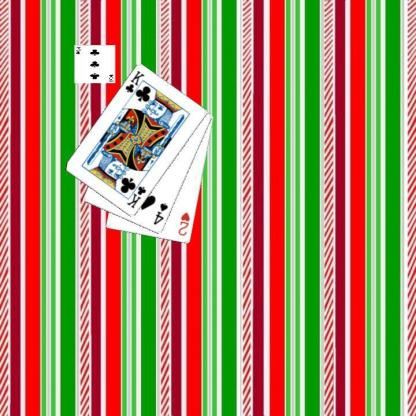2H: (176, 210, 191, 237)
4S: (152, 200, 170, 226)
KC: (122, 68, 146, 100), (124, 179, 148, 210)
